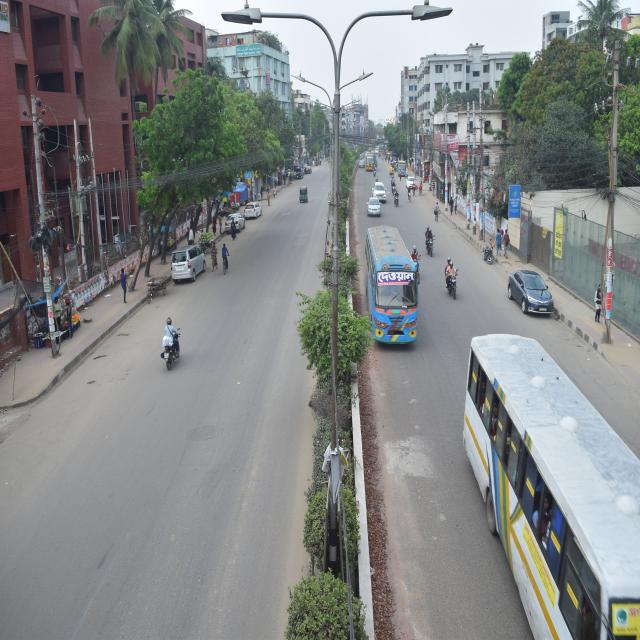bus: (459, 334, 592, 640), (366, 220, 423, 335)
car: (244, 193, 262, 223), (365, 196, 381, 225), (374, 181, 392, 206), (404, 175, 419, 190), (393, 188, 402, 209)
motorbike: (154, 314, 190, 367), (442, 262, 471, 308), (422, 222, 437, 265), (226, 214, 245, 244)
